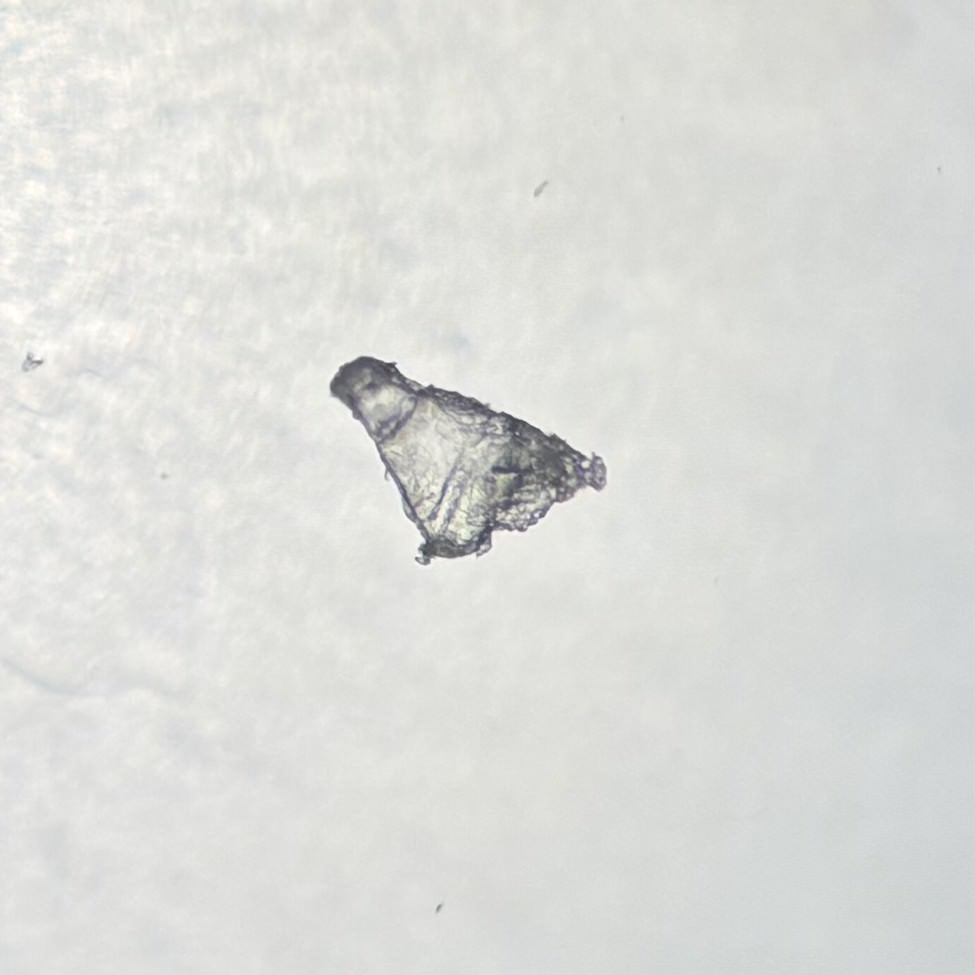microplastic: (326, 352, 617, 570)
